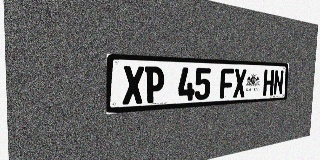4: (178, 67, 195, 101)
5: (195, 68, 211, 100)
F: (220, 68, 234, 99)
H: (263, 70, 274, 96)
N: (273, 70, 284, 95)
P: (144, 66, 164, 103)
X: (122, 66, 144, 105), (233, 69, 246, 98)
